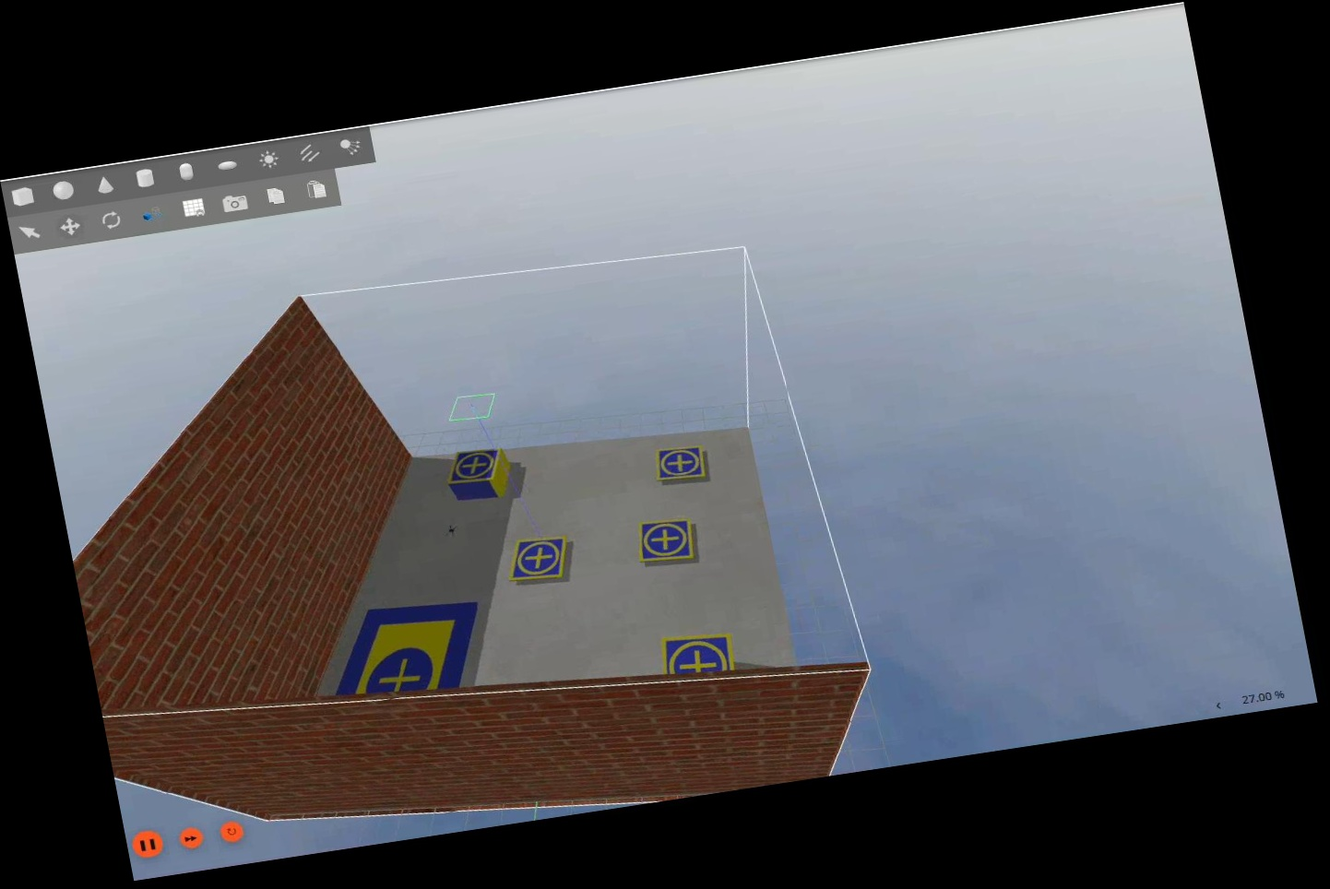large_base: (322, 592, 493, 706)
small_base: (657, 626, 738, 684), (503, 533, 575, 587), (633, 514, 700, 567), (445, 444, 508, 491), (648, 441, 712, 486)
